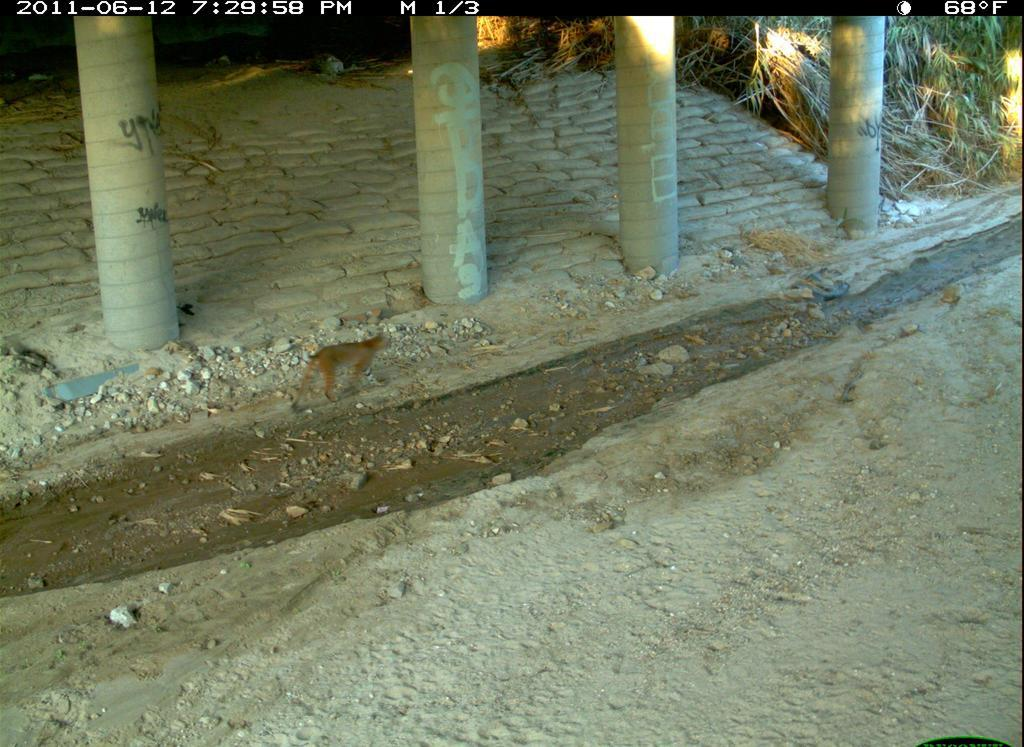bobcat: (574, 653, 788, 747)
